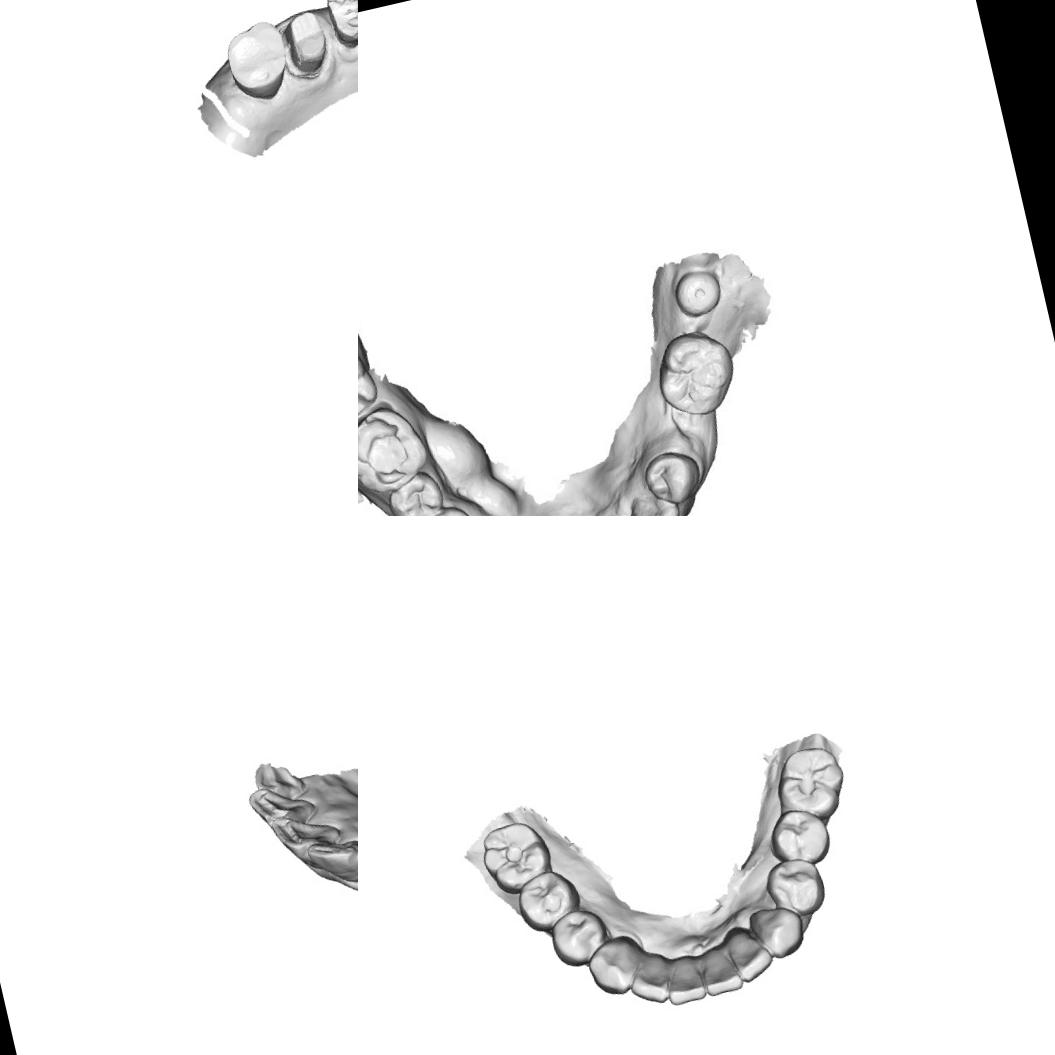canine: (582, 930, 649, 998), (744, 900, 810, 964), (662, 407, 714, 460), (629, 486, 685, 516)
crown: (277, 6, 334, 82)
implant: (668, 264, 727, 322)
incisor: (267, 805, 347, 867), (245, 775, 320, 833), (724, 922, 779, 987), (620, 950, 676, 1011), (303, 831, 358, 892), (658, 946, 712, 1008), (696, 942, 750, 1000)
inlay: (358, 410, 418, 492)
molar: (648, 322, 744, 424), (767, 738, 856, 830), (218, 14, 296, 108), (473, 812, 556, 898), (358, 329, 386, 434)
premolar: (759, 800, 838, 877), (760, 850, 833, 923), (511, 865, 585, 936), (542, 902, 614, 972), (638, 444, 706, 508), (382, 467, 449, 516), (321, 0, 358, 53), (417, 501, 481, 516)
